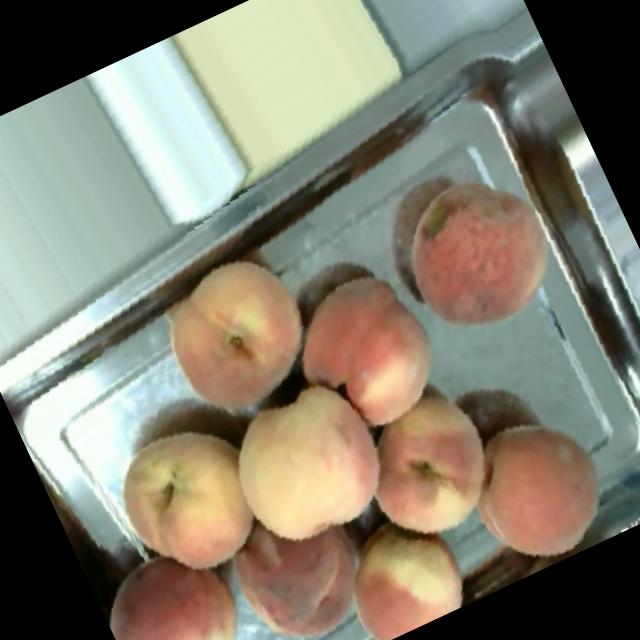Fruit: (121, 220, 354, 453), (199, 350, 428, 582), (365, 138, 590, 364), (76, 388, 296, 616), (263, 236, 472, 458), (326, 368, 528, 574), (194, 453, 414, 640), (437, 390, 632, 590), (303, 485, 486, 640), (85, 515, 281, 640)
